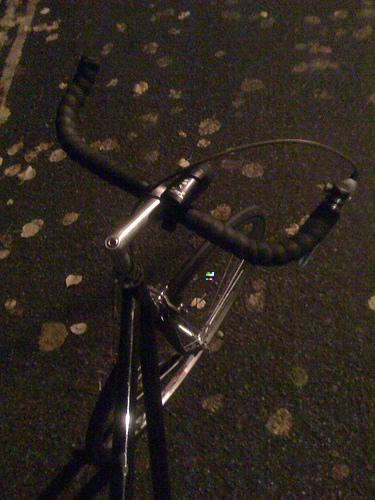car: (56, 52, 364, 500)
